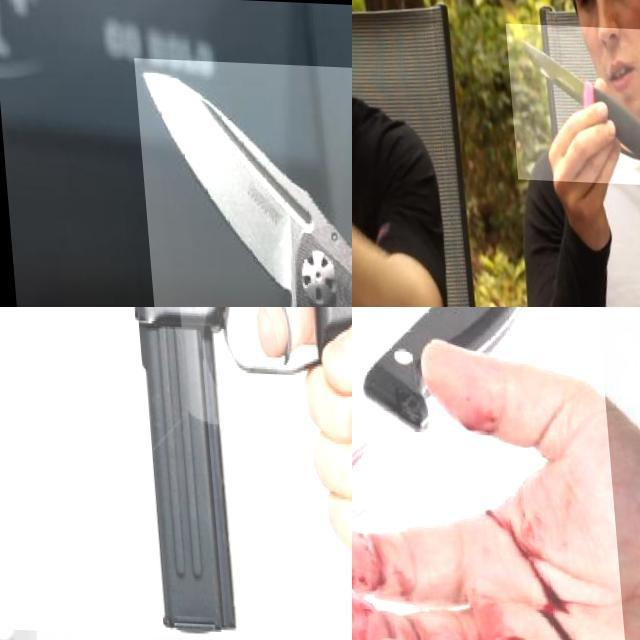-: (352, 307, 635, 640), (133, 56, 352, 307), (502, 20, 640, 181)
gun-knife-thesis - v11 Yolov5 augmented: (0, 307, 352, 640)
